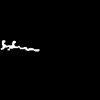double_crochet: (1, 41, 38, 50)
